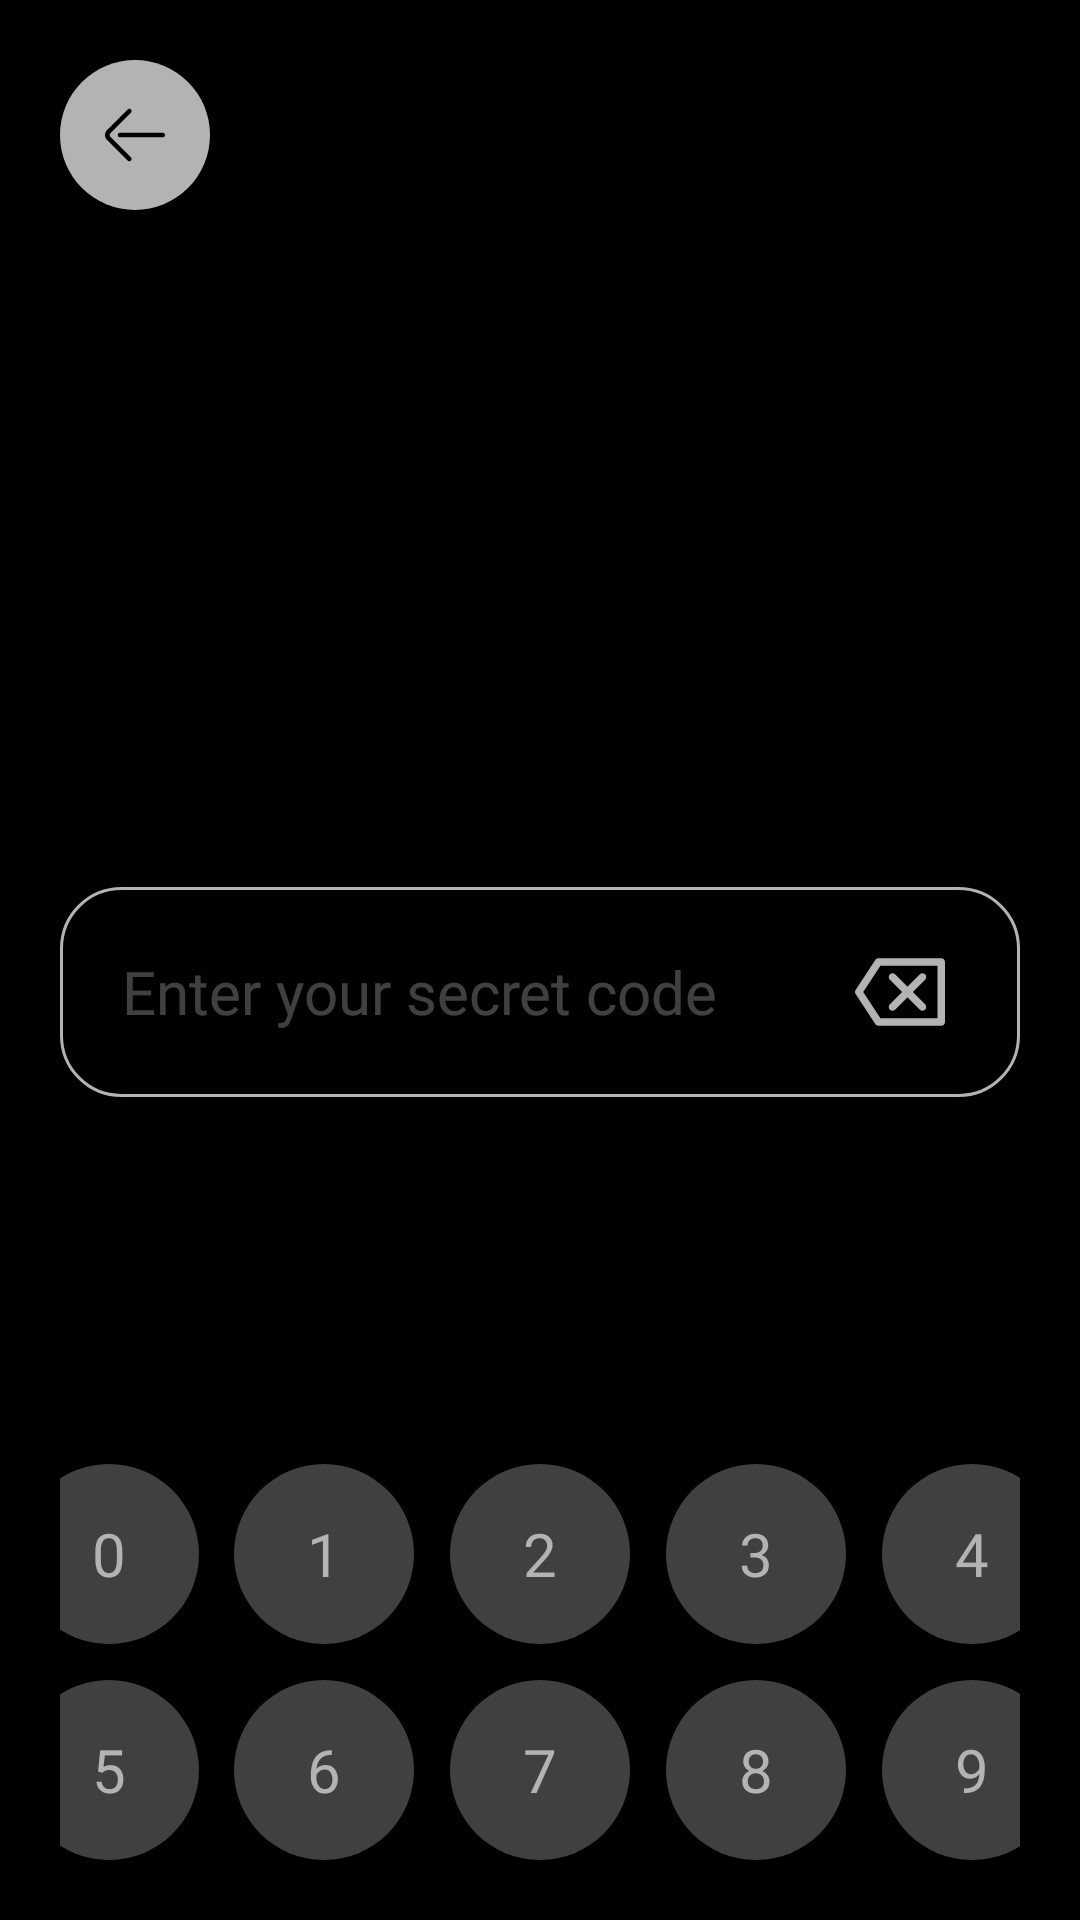

Screen size 1080x1920. Icon name, then its box in pixels as [x1,y1,x2,y2]:
back: [60,60,210,210]
backspace: [855,958,945,1026]
